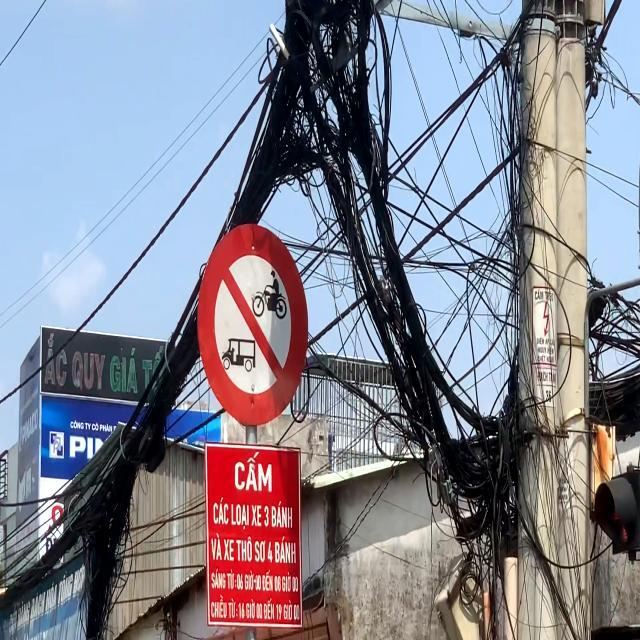P-104: (198, 224, 308, 426)
